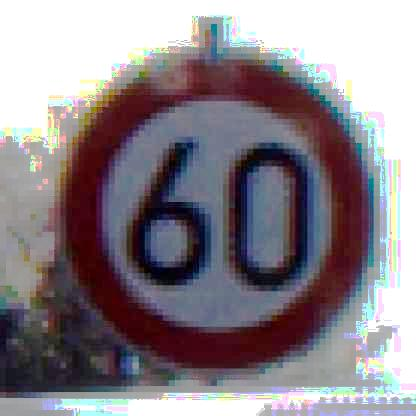Speed Limit -60-: (49, 43, 382, 378)
